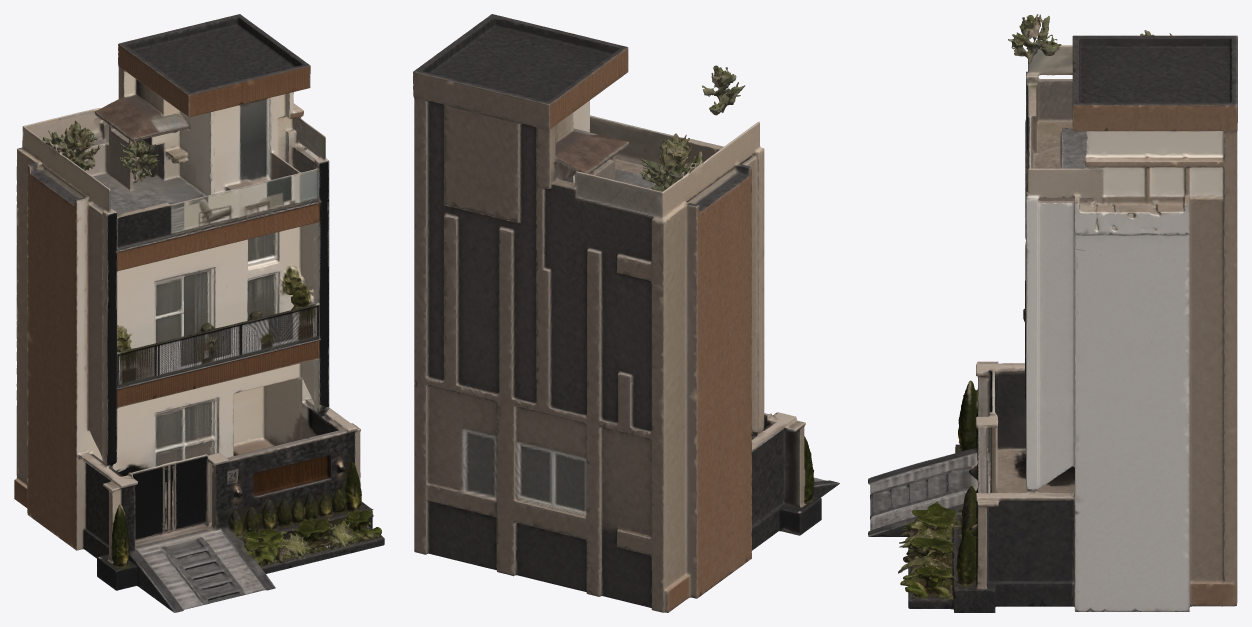
The model's file is villa-10-6th-park.glb.
3 views of the same model, side by side, from view 1: azimuth 30°, elevation 25°; view 2: azimuth 150°, elevation 25°; view 3: azimuth 270°, elevation 25° (orthographic). The views are drawn at different scales.
Size of the model in its own units: 1.19 by 1.9 by 1.27.
1 material, 1 textured.
